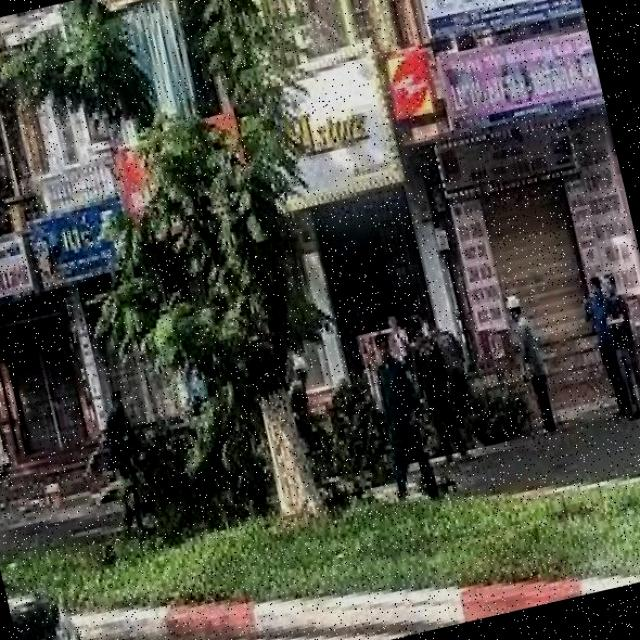fallen_object: (51, 299, 564, 564)
